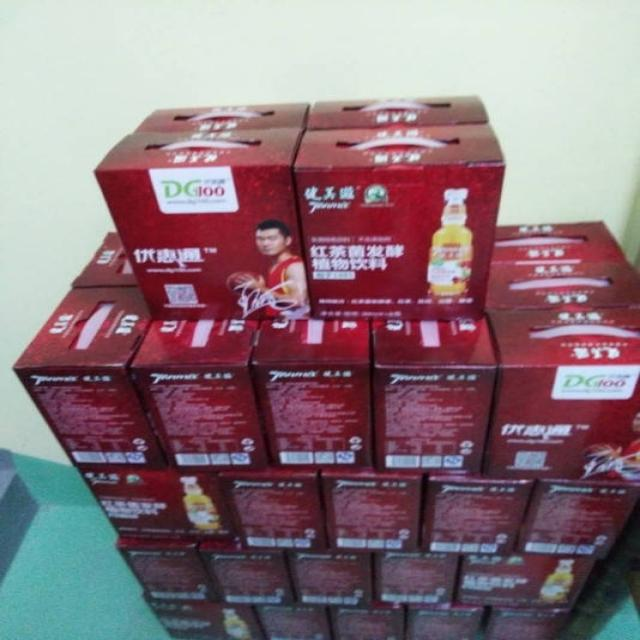Carton: (137, 127, 503, 473), (16, 169, 301, 476), (484, 308, 639, 478), (369, 318, 495, 475), (83, 476, 322, 553), (95, 100, 307, 166), (139, 369, 276, 468), (490, 218, 636, 305), (518, 482, 639, 556), (424, 480, 531, 555), (300, 92, 488, 129), (320, 479, 409, 552)
